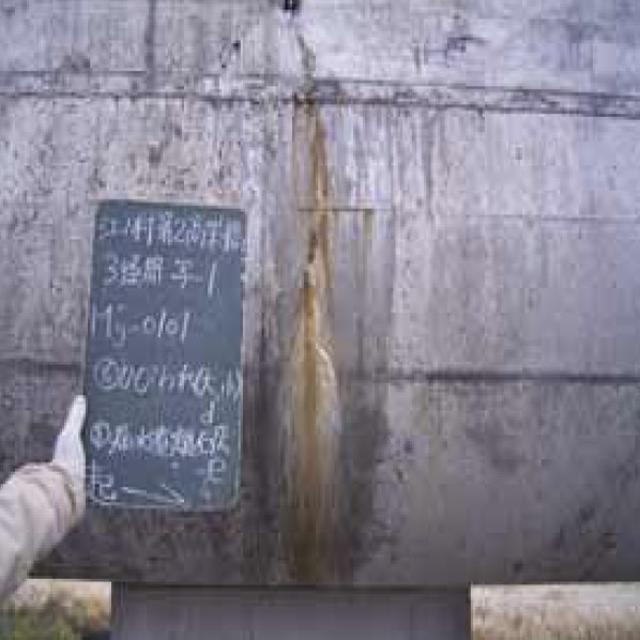leakage: (283, 90, 337, 533)
